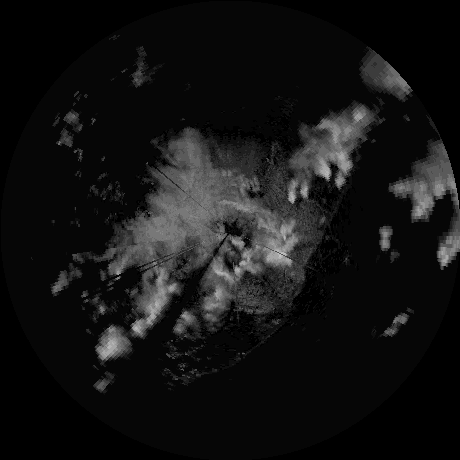frontgust: (181, 311, 285, 376)
